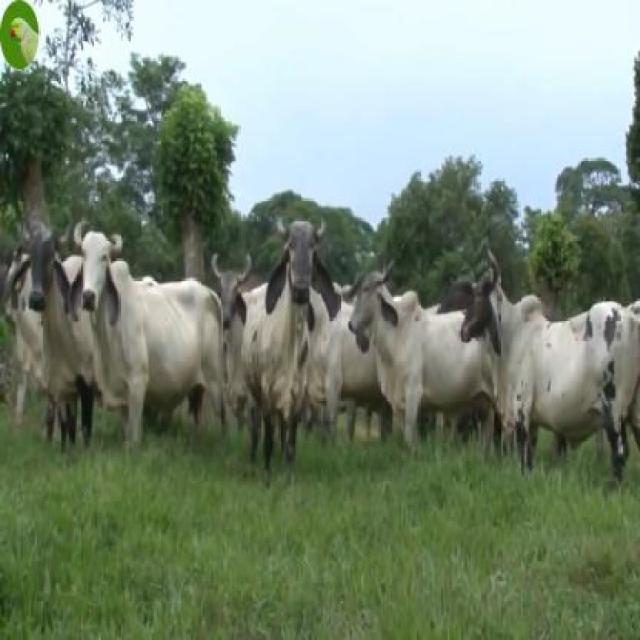Cow: (74, 218, 228, 437), (243, 215, 342, 457)
